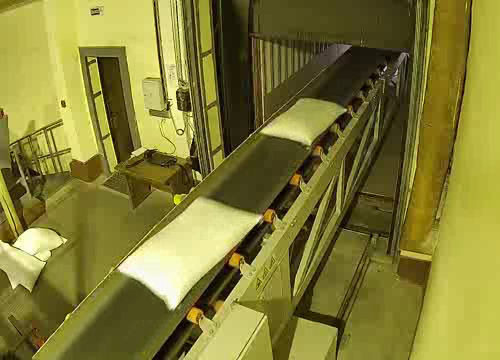bag: (110, 194, 267, 313), (258, 94, 349, 146)
